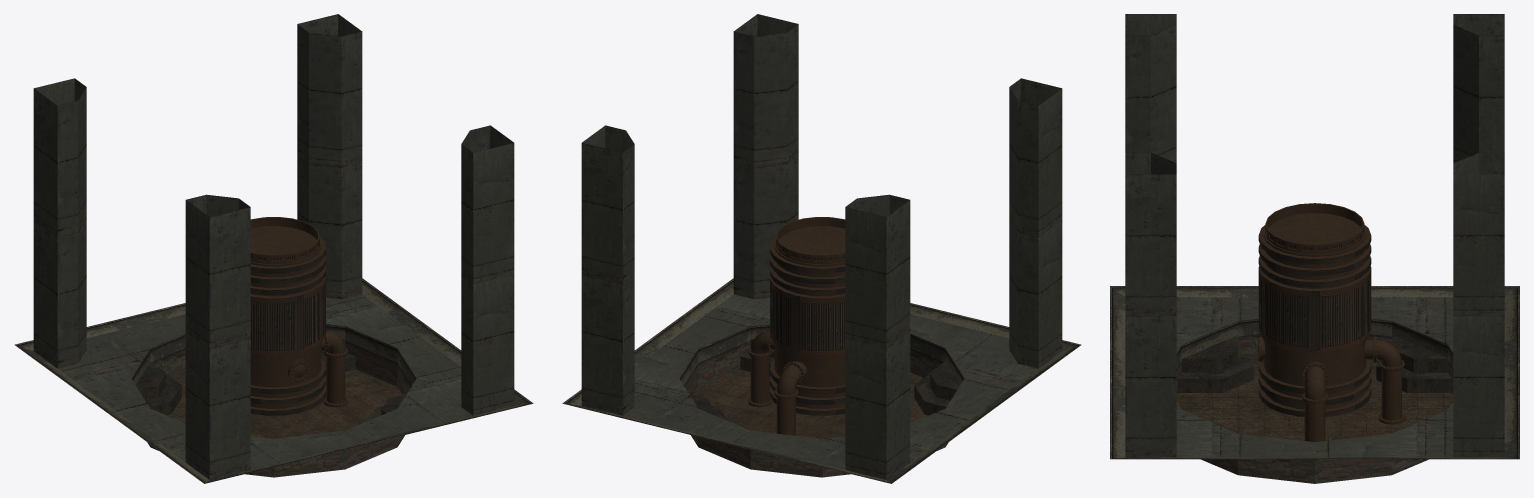
File: structure_piece_rg_1.obj
3 views of the same model, side by side, from view 1: azimuth 30°, elevation 25°; view 2: azimuth 150°, elevation 25°; view 3: azimuth 270°, elevation 25° (orthographic). The views are drawn at different scales.
Parts seen in each view (by area): view 1: structure_piece_rg_1, boiler_hx_1; view 2: structure_piece_rg_1, boiler_hx_1; view 3: structure_piece_rg_1, boiler_hx_1.
Boxes of the visible parts, left/top/right/bottom form: structure_piece_rg_1: left=14, top=14, right=533, bottom=483; boiler_hx_1: left=250, top=217, right=347, bottom=415; structure_piece_rg_1: left=562, top=14, right=1081, bottom=483; boiler_hx_1: left=748, top=217, right=845, bottom=435; structure_piece_rg_1: left=1110, top=14, right=1519, bottom=483; boiler_hx_1: left=1258, top=203, right=1404, bottom=441.
Bounding box in the file's own units: 8 × 7 × 8.
